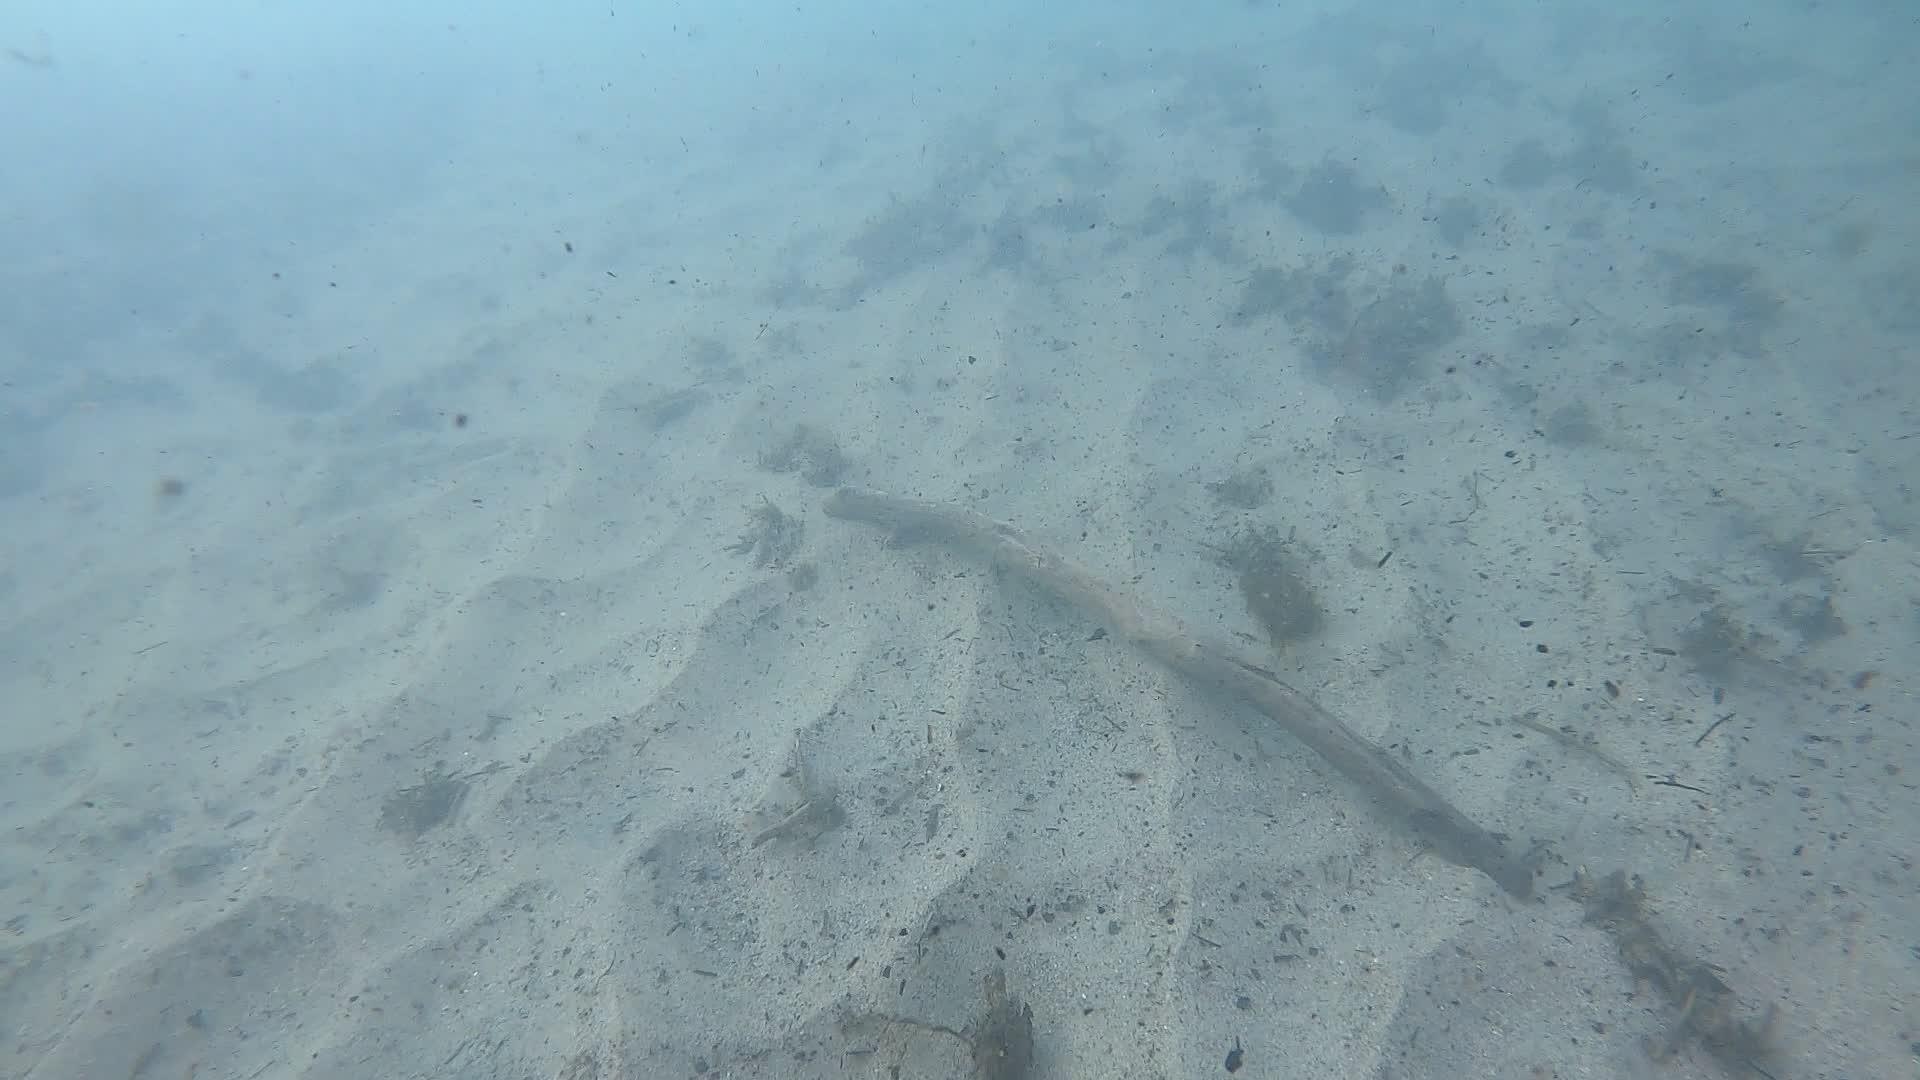wood: (818, 481, 1535, 899)
